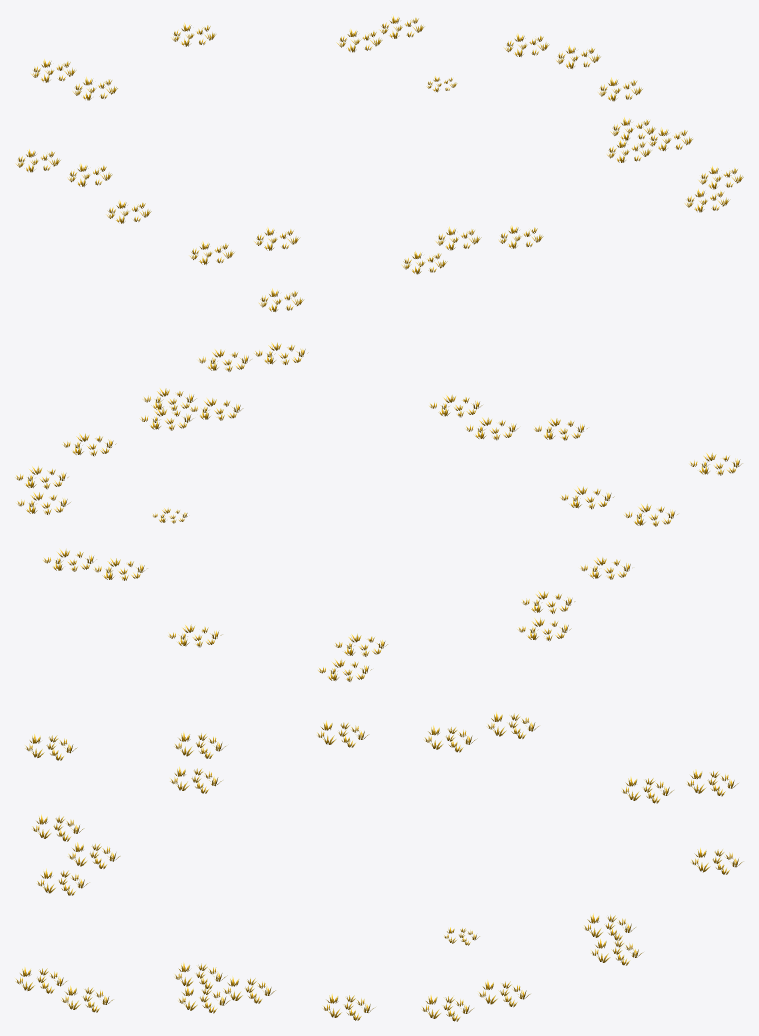
File: Grass 1.fbx
3 views of the same model, one above another, from view 1: azimuth 30°, elevation 25°; view 2: azimuth 150°, elevation 25°; view 3: azimuth 270°, elevation 25° (orthographic). The views are drawn at different scales.
Bounding box in the file's own units: 0.6909 × 0.0077 × 0.6972.
Materials: 1 (1 with a texture image).
